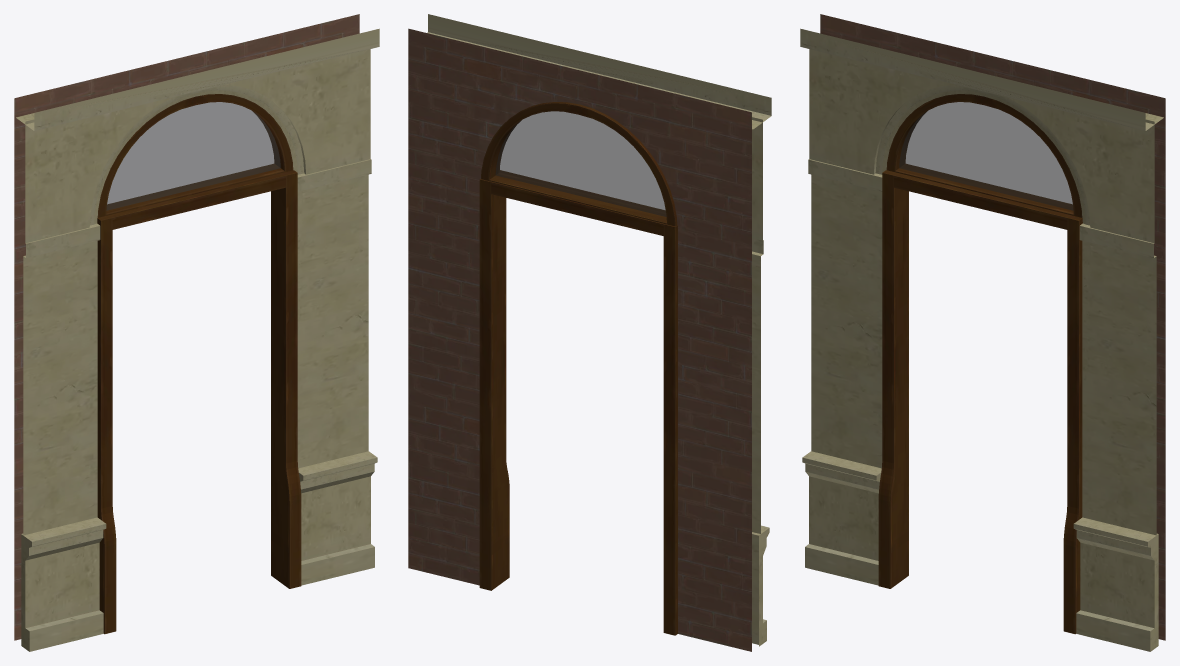
File: DoorFrame_Trim.glb
3 views of the same model, side by side, from view 1: azimuth 30°, elevation 25°; view 2: azimuth 150°, elevation 25°; view 3: azimuth 330°, elevation 25° (orthographic).
Parts seen in each view (by area): view 1: DoorFrame_Trim; view 2: DoorFrame_Trim; view 3: DoorFrame_Trim.
Boxes of the visible parts, x1,y1,x2,y2 form: DoorFrame_Trim: (14, 14, 379, 651); DoorFrame_Trim: (408, 14, 771, 651); DoorFrame_Trim: (800, 14, 1165, 651).
Size of the model in its own units: 2 by 3 by 0.2256.
Materials: 3 (2 with a texture image).
